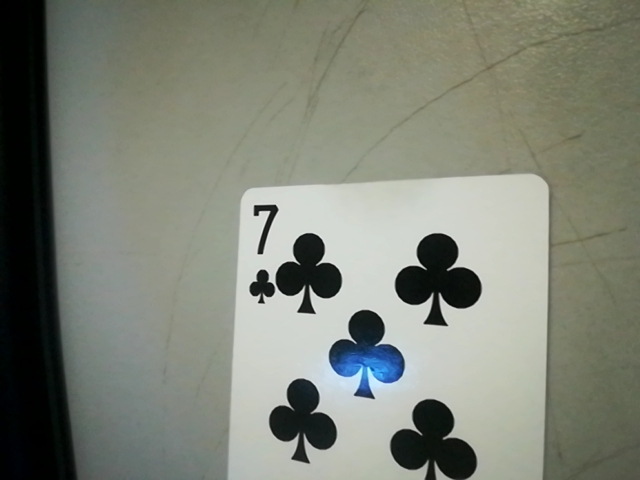mh 7: (234, 192, 284, 311)
